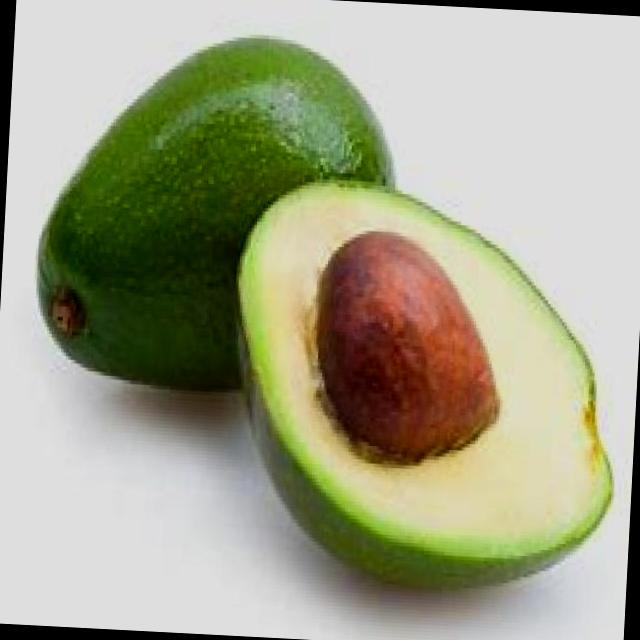avocado: (212, 177, 630, 612), (19, 29, 402, 406)
